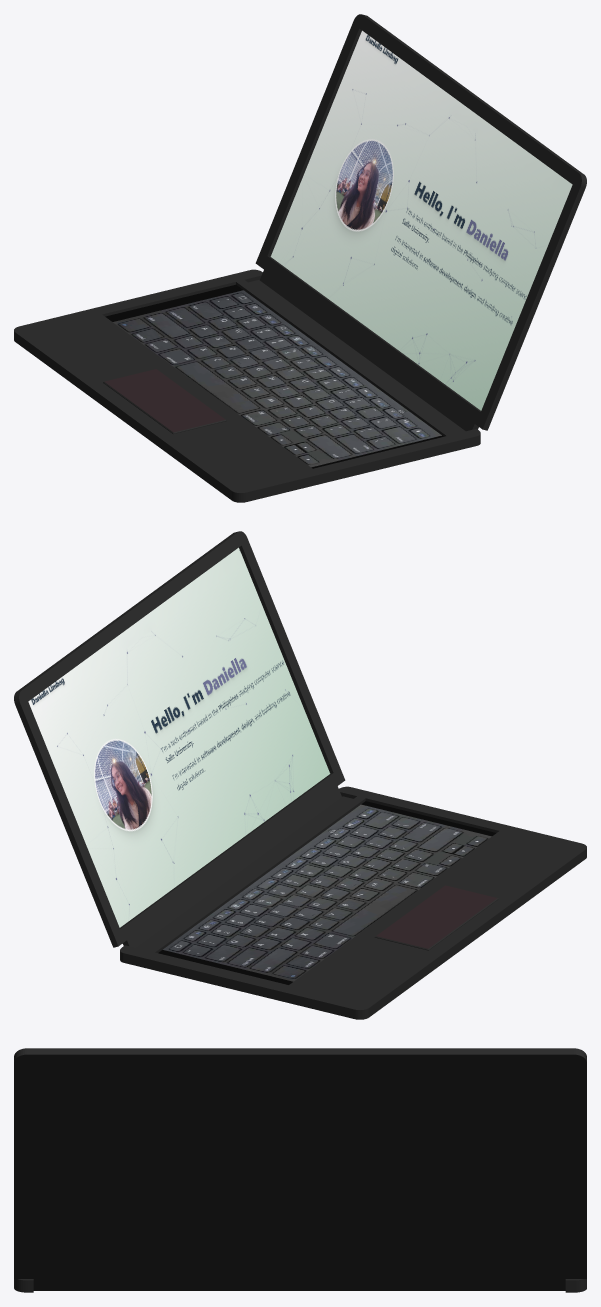
The model's file is laptop.glb.
The picture shows the model from 3 angles, top to bottom: view 1: azimuth 30°, elevation 25°; view 2: azimuth 150°, elevation 25°; view 3: azimuth 270°, elevation 25°; orthographic projection. The views are drawn at different scales.
Visible parts, largest first — view 1: Cube_0; view 2: Cube_0; view 3: Cube_0.
Boxes of the visible parts, x1=… form: Cube_0: x1=14, y1=14, x2=586, y2=502; Cube_0: x1=14, y1=531, x2=586, y2=1019; Cube_0: x1=14, y1=1048, x2=586, y2=1292.
Bounding box in the file's own units: 0.197 × 0.1295 × 0.2198.
6 materials, 2 textured.
